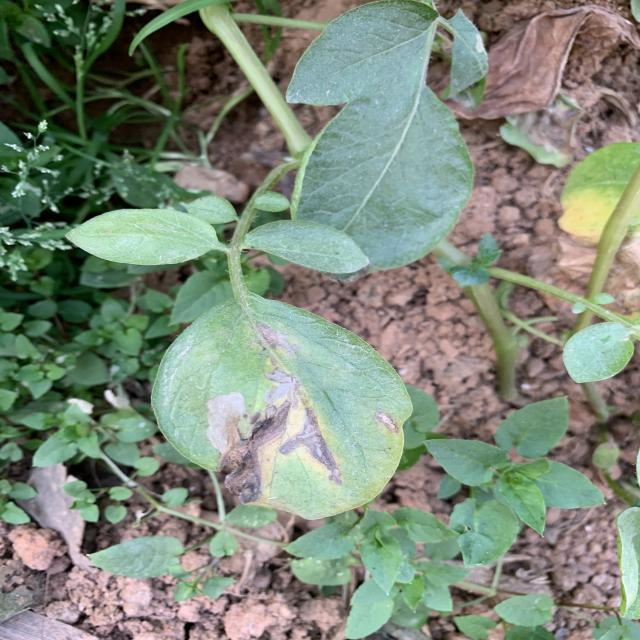lateblight: (207, 391, 272, 502), (238, 369, 308, 454), (278, 408, 342, 485), (375, 410, 400, 432)
